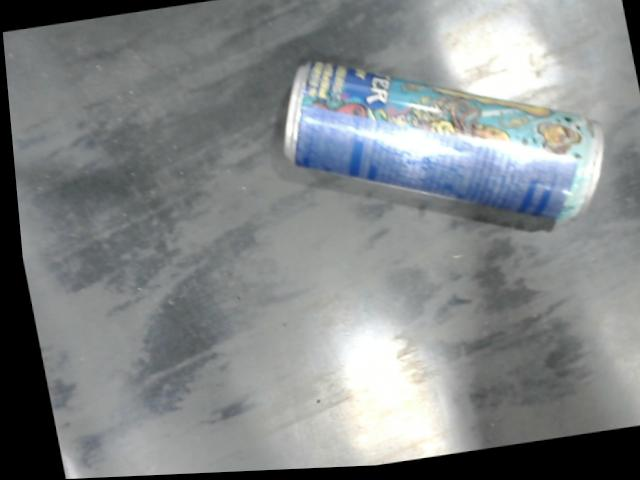can: (279, 62, 603, 230)
